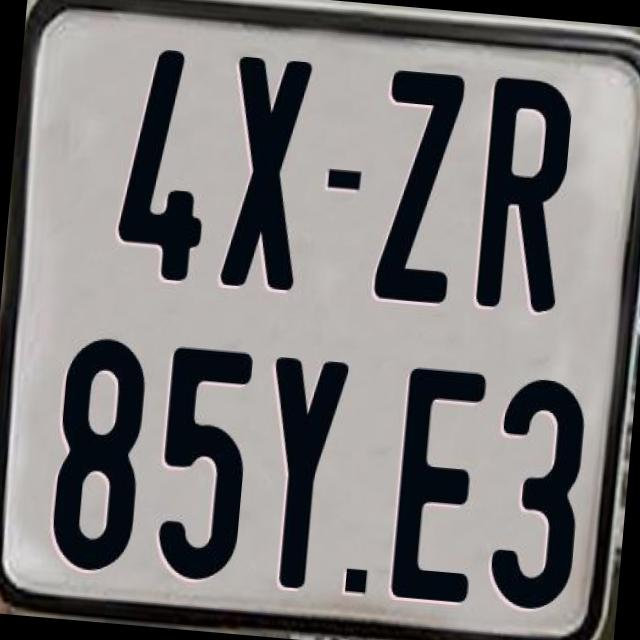3: (483, 375, 585, 618)
4: (113, 44, 224, 286)
5: (154, 341, 262, 578)
8: (46, 332, 152, 574)
E: (386, 363, 491, 600)
R: (475, 75, 577, 314)
X: (218, 51, 312, 290)
Y: (254, 356, 356, 597)
Z: (372, 66, 466, 302)
